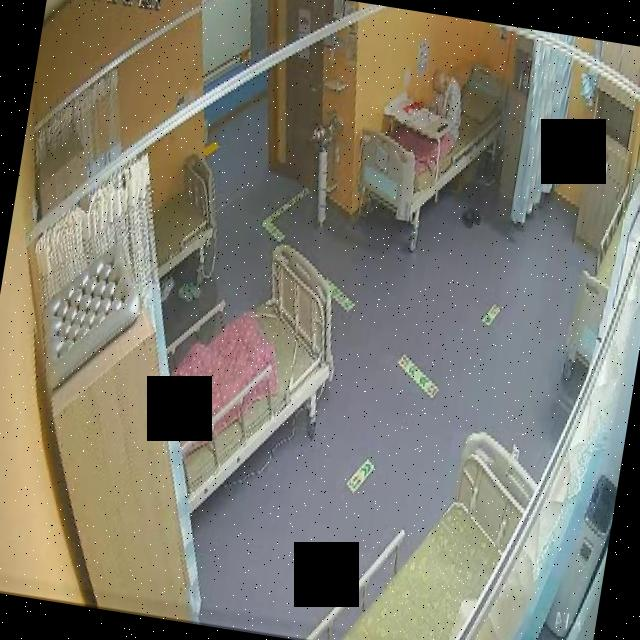bed: (150, 232, 348, 528), (306, 414, 545, 640), (348, 48, 517, 236), (142, 149, 225, 288)
patient: (420, 64, 470, 142)
sit: (422, 66, 469, 144)
